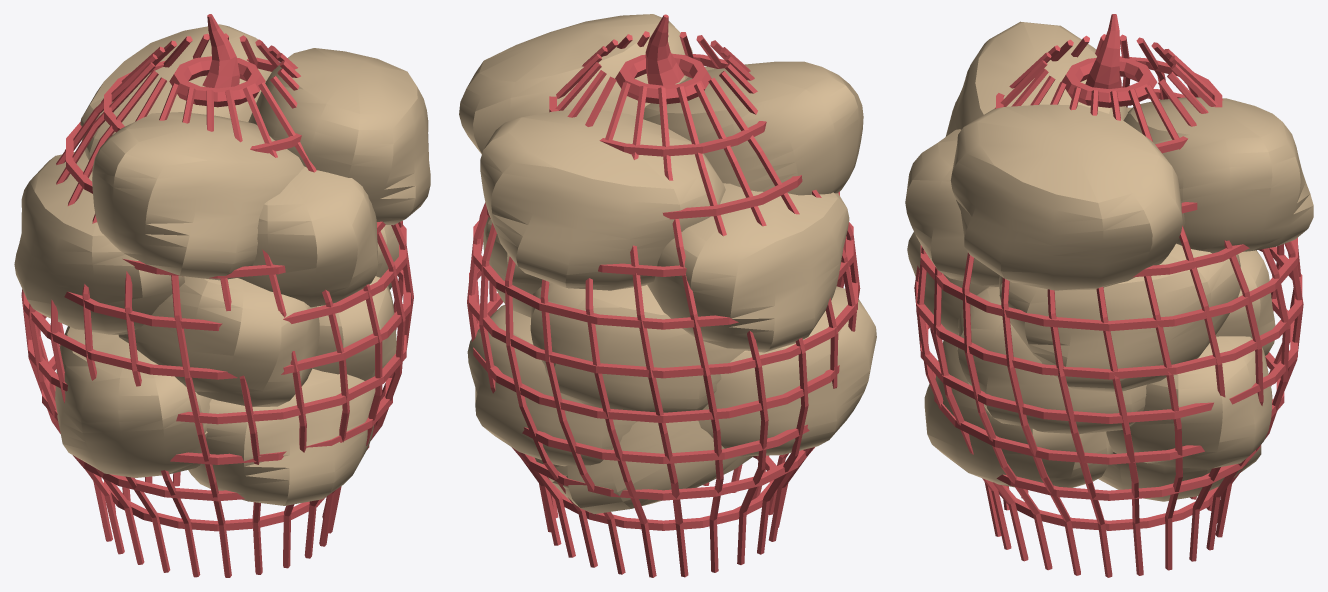
The model's file is fresh-produce-and-groceries-potatoes-net-bag-a12f17c3__24351.glb.
3 renders of one model, left to right at view 1: azimuth 30°, elevation 25°; view 2: azimuth 150°, elevation 25°; view 3: azimuth 270°, elevation 25°, orthographic.
Visible parts, largest first — view 1: potatoes-net-bag; view 2: potatoes-net-bag; view 3: potatoes-net-bag.
Boxes of the visible parts, x1=… form: potatoes-net-bag: x1=14, y1=14, x2=430, y2=577; potatoes-net-bag: x1=459, y1=14, x2=876, y2=577; potatoes-net-bag: x1=905, y1=14, x2=1313, y2=577.
Bounding box in the file's own units: 0.151 × 0.2046 × 0.1475.
